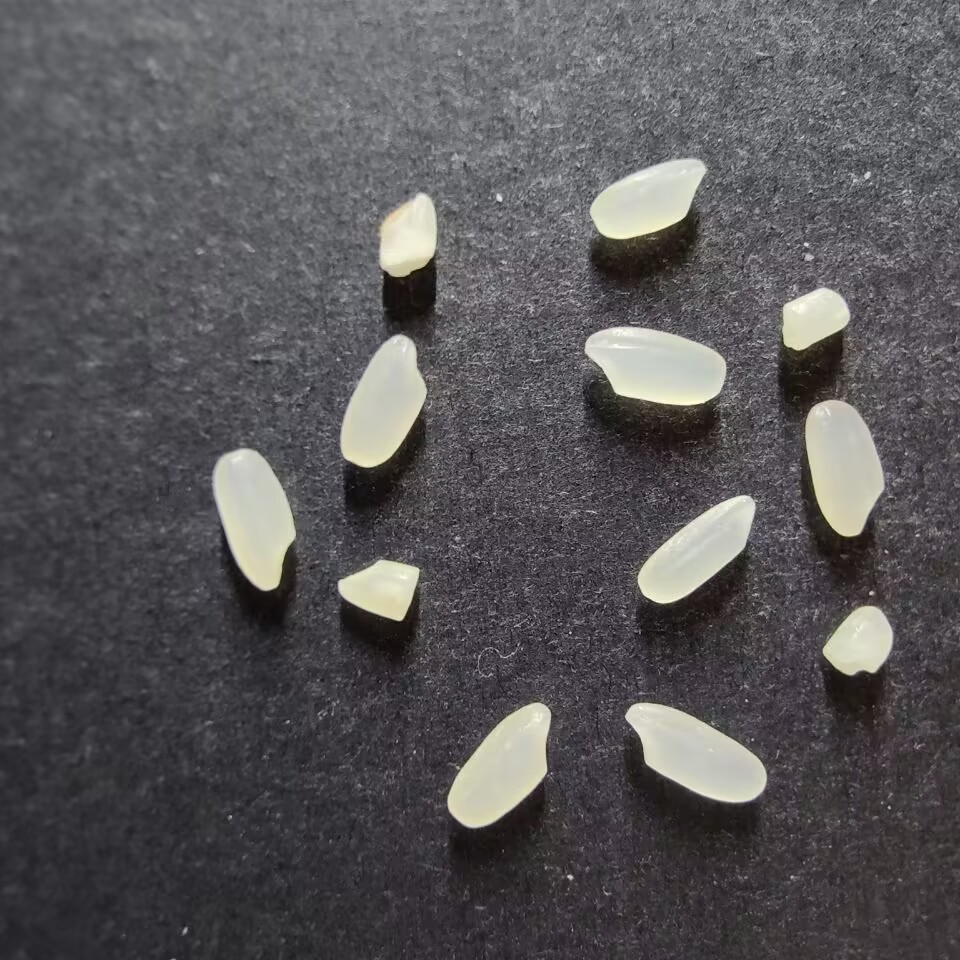broken: (337, 559, 419, 622), (821, 605, 893, 675), (378, 194, 437, 277), (781, 288, 850, 350)
rice: (624, 702, 767, 802), (446, 702, 551, 829), (636, 495, 755, 603), (212, 448, 296, 591), (339, 333, 426, 468), (584, 326, 725, 405), (804, 400, 885, 537), (589, 158, 707, 239)
